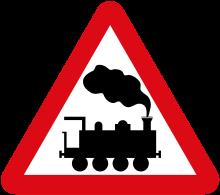Barrier Ahead: (13, 13, 213, 190)
